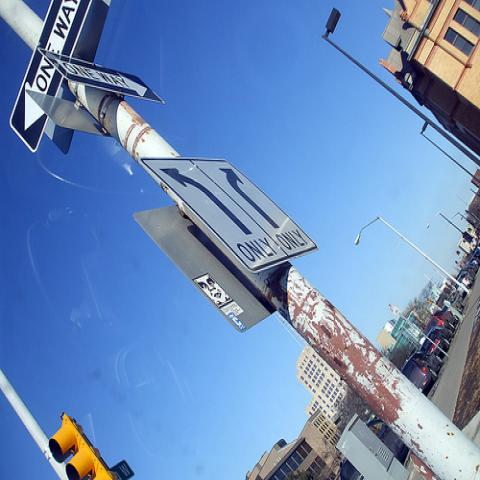car: (340, 419, 404, 480), (401, 351, 443, 395), (419, 326, 454, 360), (424, 309, 458, 339), (442, 299, 464, 322), (453, 274, 472, 299), (457, 267, 475, 281), (470, 257, 479, 269), (473, 246, 479, 259)
